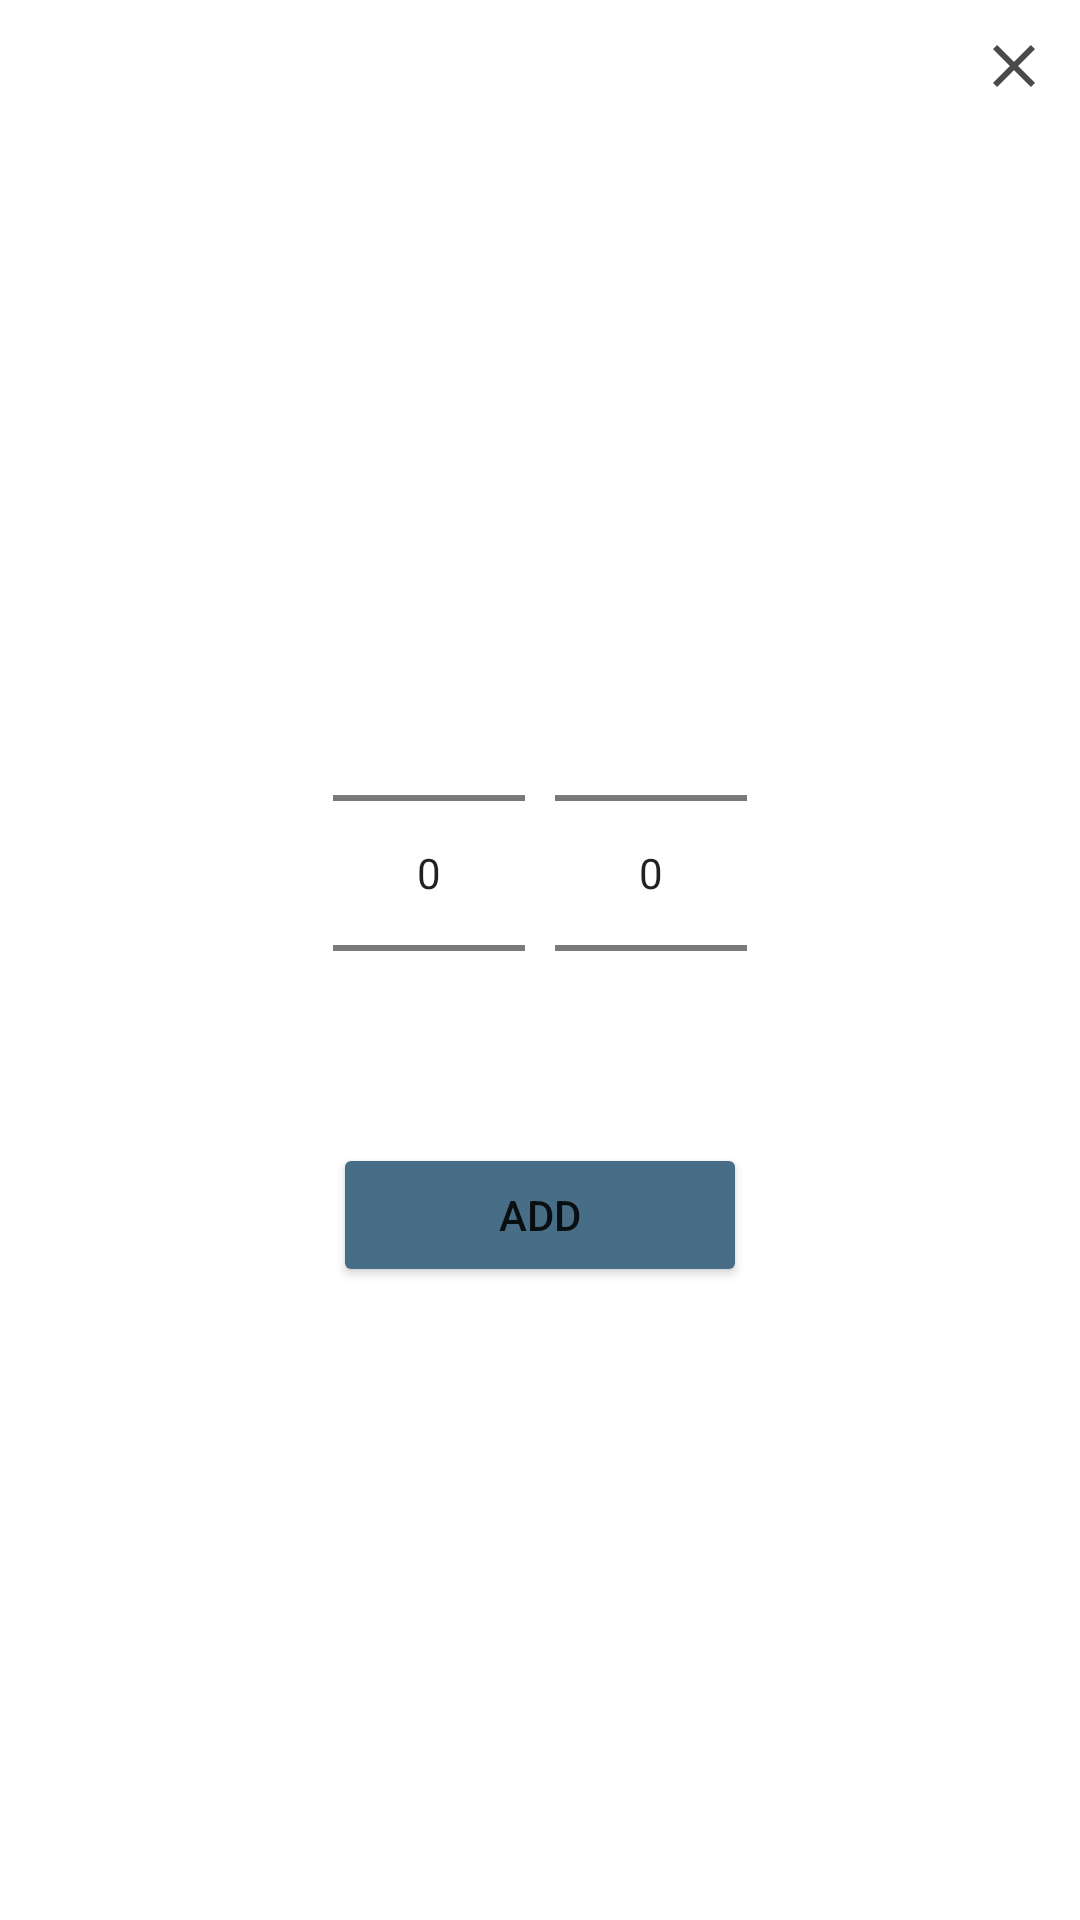

Icons on this 1080×1920 Android screen, each with its box as (x1,y1,x2,y2):
close add workout pop up modal: (993,45,1035,87)
